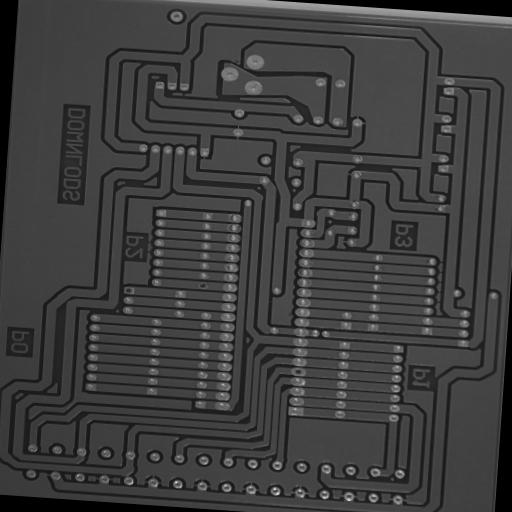missing_hole: (121, 283, 136, 296), (290, 366, 305, 378), (197, 281, 208, 290)
